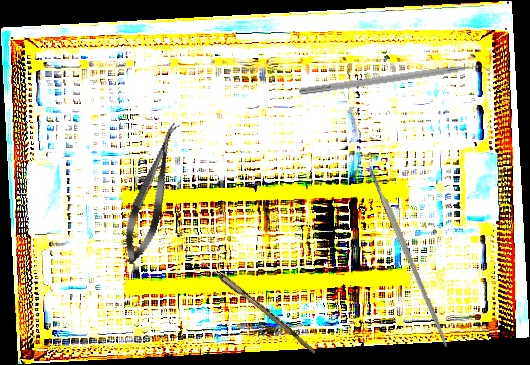Chopper: (297, 60, 498, 106)
Micro Scissor: (116, 117, 188, 269)
Scalpel Handle: (366, 163, 451, 349)
Surgical Spoon: (183, 245, 319, 355)
